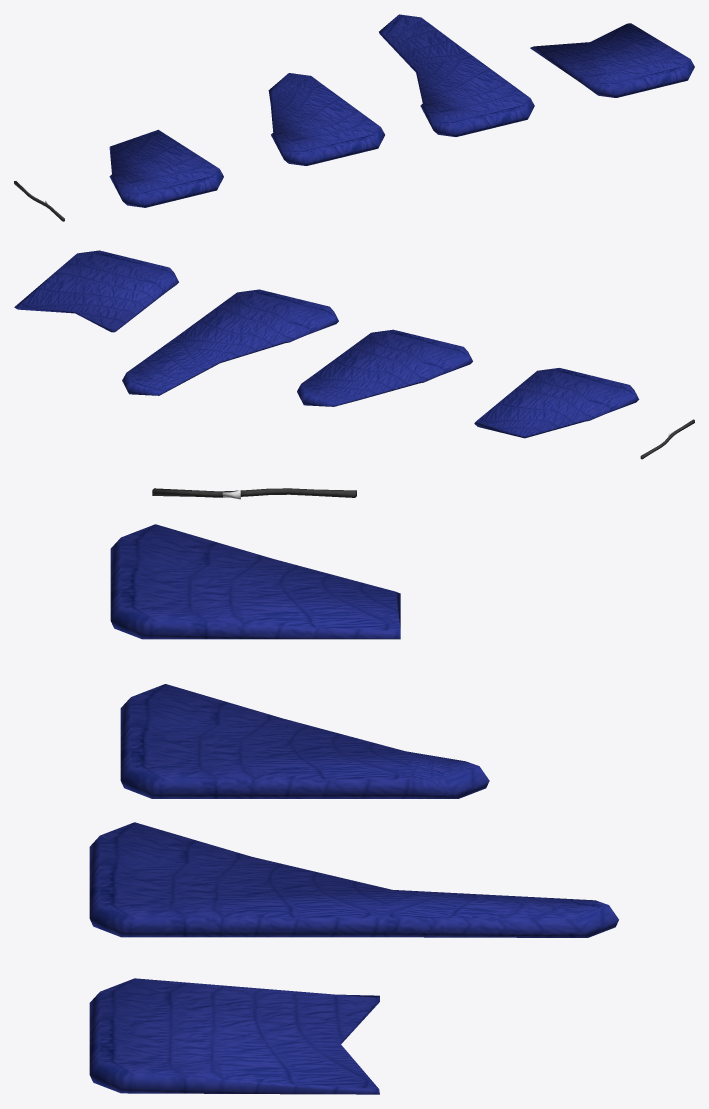
File: DamagedSleepingBags_DarkBlue.obj
The picture shows the model from 3 angles, top to bottom: view 1: azimuth 30°, elevation 25°; view 2: azimuth 150°, elevation 25°; view 3: azimuth 270°, elevation 25°; orthographic projection. The views are drawn at different scales.
Visible parts, largest first — view 1: Cube.018_Material.016, Cube.017_Material.016, Cube.019_Material.016, Cube.016_Material.016; view 2: Cube.018_Material.016, Cube.017_Material.016, Cube.019_Material.016, Cube.016_Material.016; view 3: Cube.018_Material.016, Cube.019_Material.016, Cube.017_Material.016, Cube.016_Material.016, Plane.003_Material.016.
Part boxes in pixels (<box>): Cube.018_Material.016: <box>379,14,534,136</box>; Cube.017_Material.016: <box>268,73,384,165</box>; Cube.019_Material.016: <box>530,23,694,97</box>; Cube.016_Material.016: <box>109,129,223,207</box>; Cube.018_Material.016: <box>122,289,338,395</box>; Cube.017_Material.016: <box>297,329,472,406</box>; Cube.019_Material.016: <box>14,250,178,332</box>; Cube.016_Material.016: <box>474,368,639,438</box>; Cube.018_Material.016: <box>89,822,618,937</box>; Cube.019_Material.016: <box>89,978,379,1094</box>; Cube.017_Material.016: <box>120,684,489,798</box>; Cube.016_Material.016: <box>110,524,400,639</box>; Plane.003_Material.016: <box>152,488,356,497</box>.
Bounding box in the file's own units: 4.82 × 0.1058 × 1.77.
